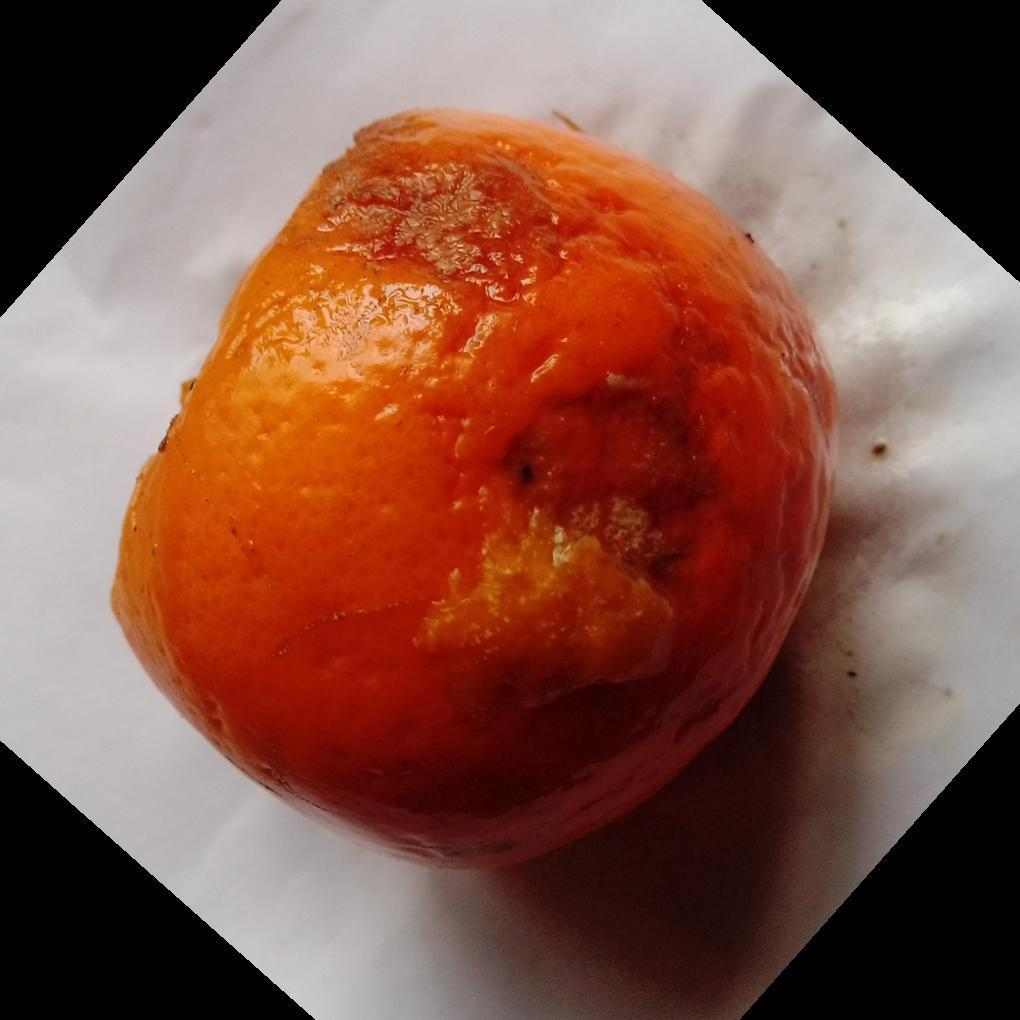FreshOrange: (105, 107, 840, 878)
